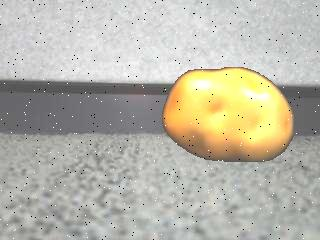Capsicum: (161, 65, 297, 165)
